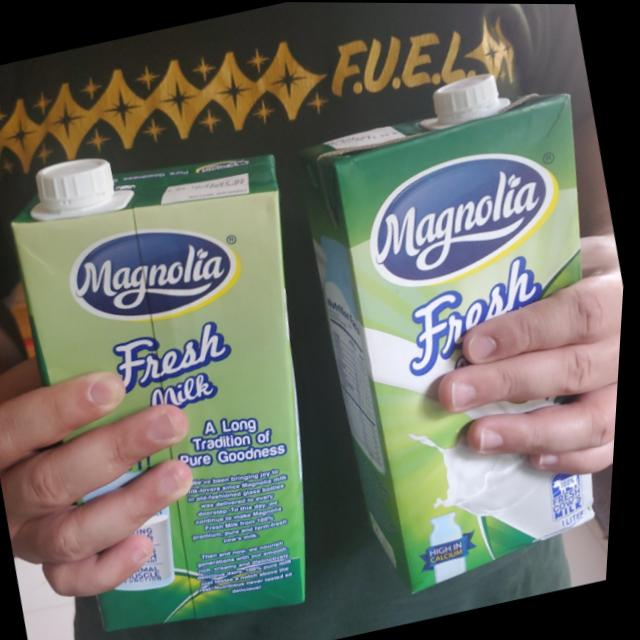milk: (268, 55, 638, 605), (0, 114, 376, 640)
